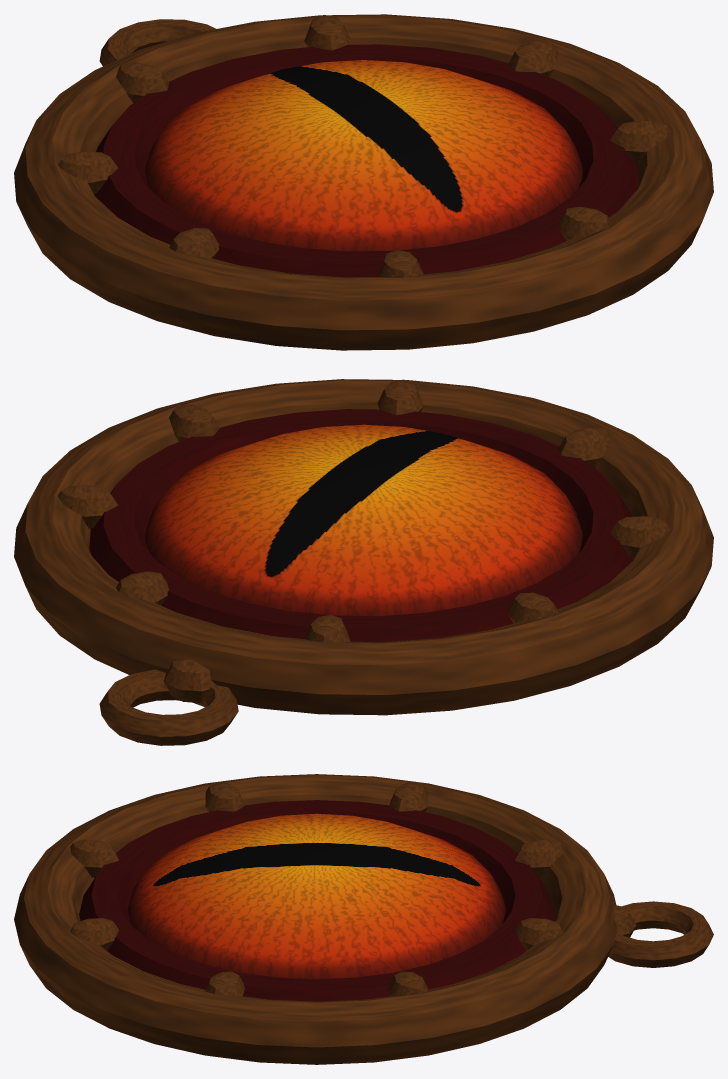
The model's file is item_7item147.glb.
3 renders of one model, top to bottom at view 1: azimuth 30°, elevation 25°; view 2: azimuth 150°, elevation 25°; view 3: azimuth 270°, elevation 25°, orthographic. The views are drawn at different scales.
Parts seen in each view (by area): view 1: 7item147; view 2: 7item147; view 3: 7item147.
Part boxes in pixels (left/top/right/bottom): 7item147: left=14, top=14, right=713, bottom=350; 7item147: left=14, top=379, right=713, bottom=745; 7item147: left=14, top=774, right=713, bottom=1064.
Size of the model in its own units: 0.9 by 0.22 by 1.04.
Materials: 1 (1 with a texture image).
